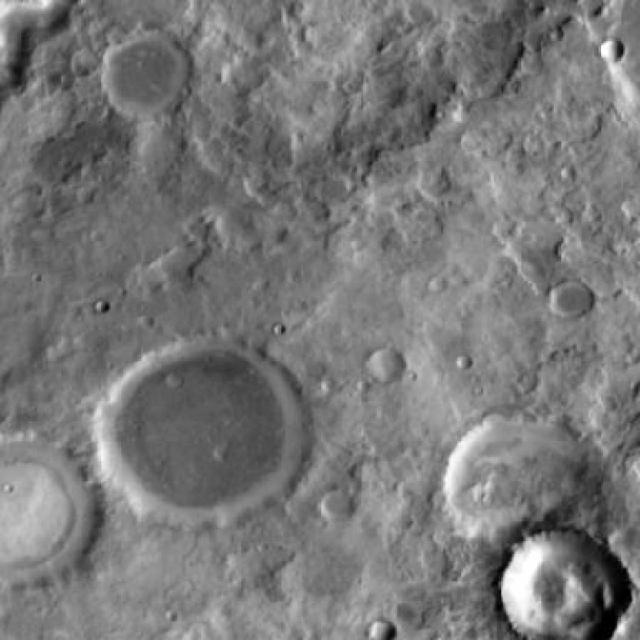crater: (82, 335, 298, 534), (430, 408, 592, 558), (0, 432, 92, 598), (506, 534, 640, 640), (87, 25, 188, 118), (553, 284, 595, 319), (369, 349, 406, 383), (323, 489, 355, 518), (61, 48, 90, 74), (597, 42, 625, 68), (371, 623, 395, 640)
